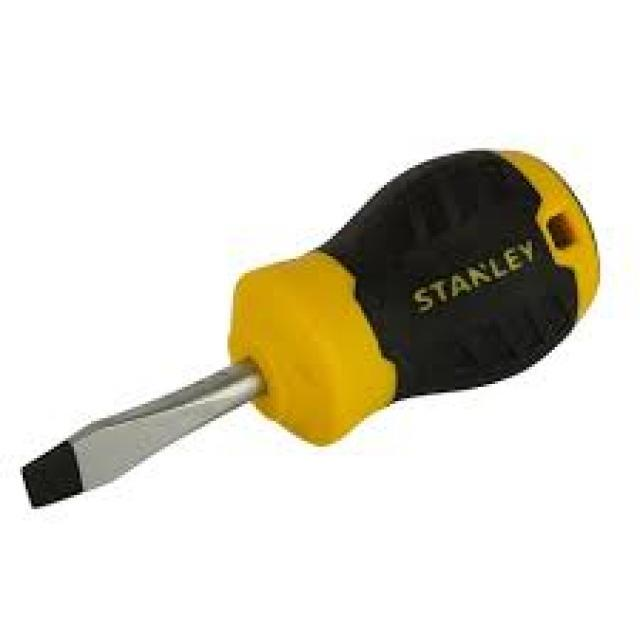screwdriver: (21, 146, 599, 514)
